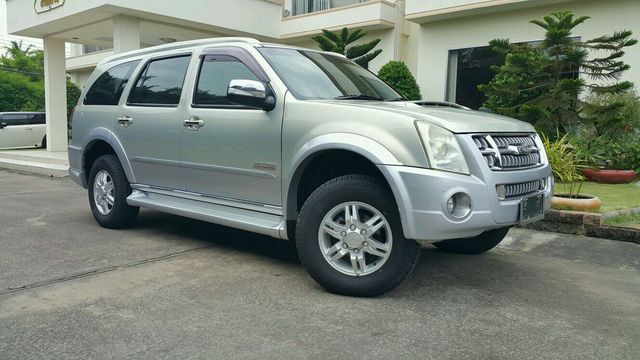pickup: (68, 35, 556, 297)
